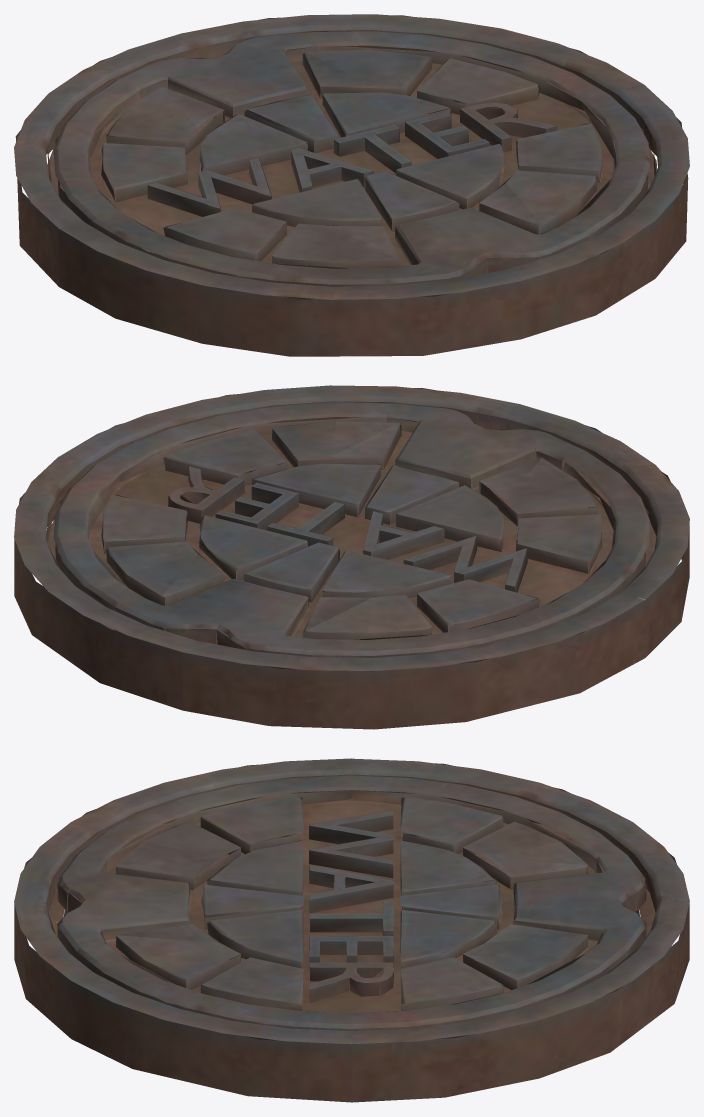
File: water_manhole_cover.glb
3 views of the same model, one above another, from view 1: azimuth 30°, elevation 25°; view 2: azimuth 150°, elevation 25°; view 3: azimuth 270°, elevation 25° (orthographic).
Parts seen in each view (by area): view 1: water_manhole_cover; view 2: water_manhole_cover; view 3: water_manhole_cover.
Boxes of the visible parts, x1,y1,x2,y2 form: water_manhole_cover: [14, 14, 689, 356]; water_manhole_cover: [14, 385, 689, 729]; water_manhole_cover: [14, 758, 689, 1102].
Bounding box in the file's own units: 0.6916 × 0.0681 × 0.6915.
1 material, 1 textured.
